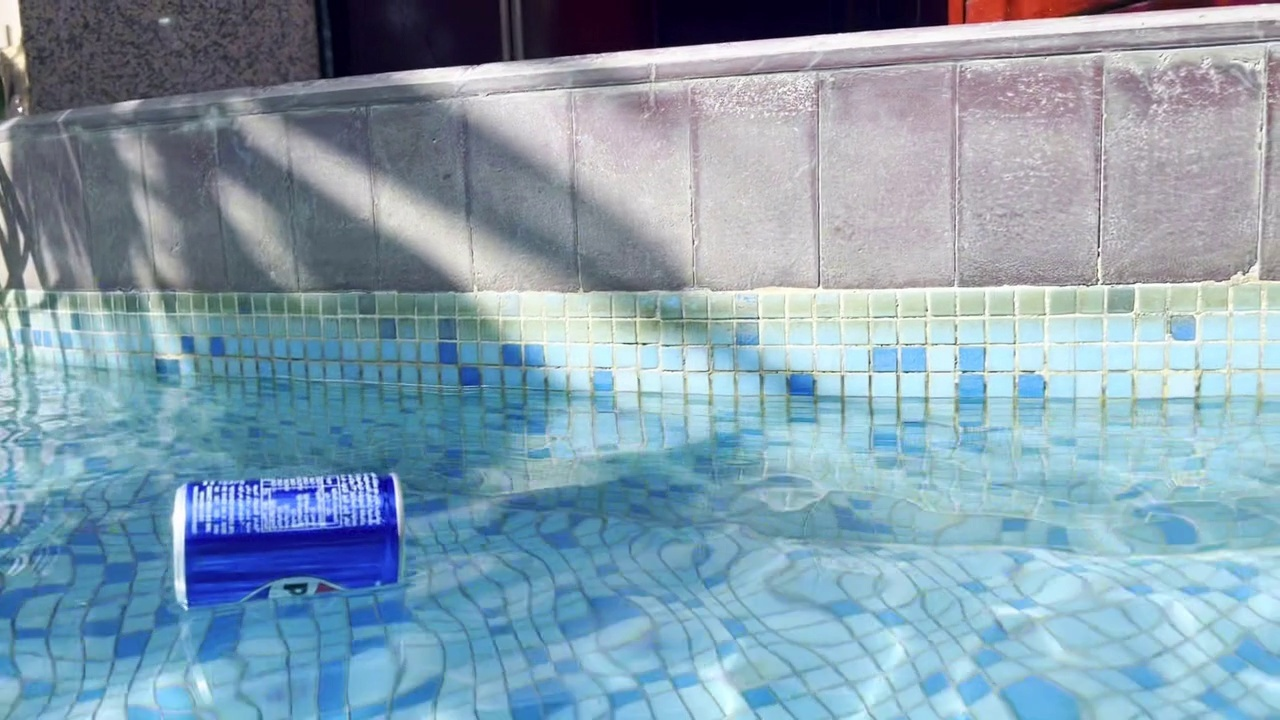debris: (155, 458, 407, 621)
